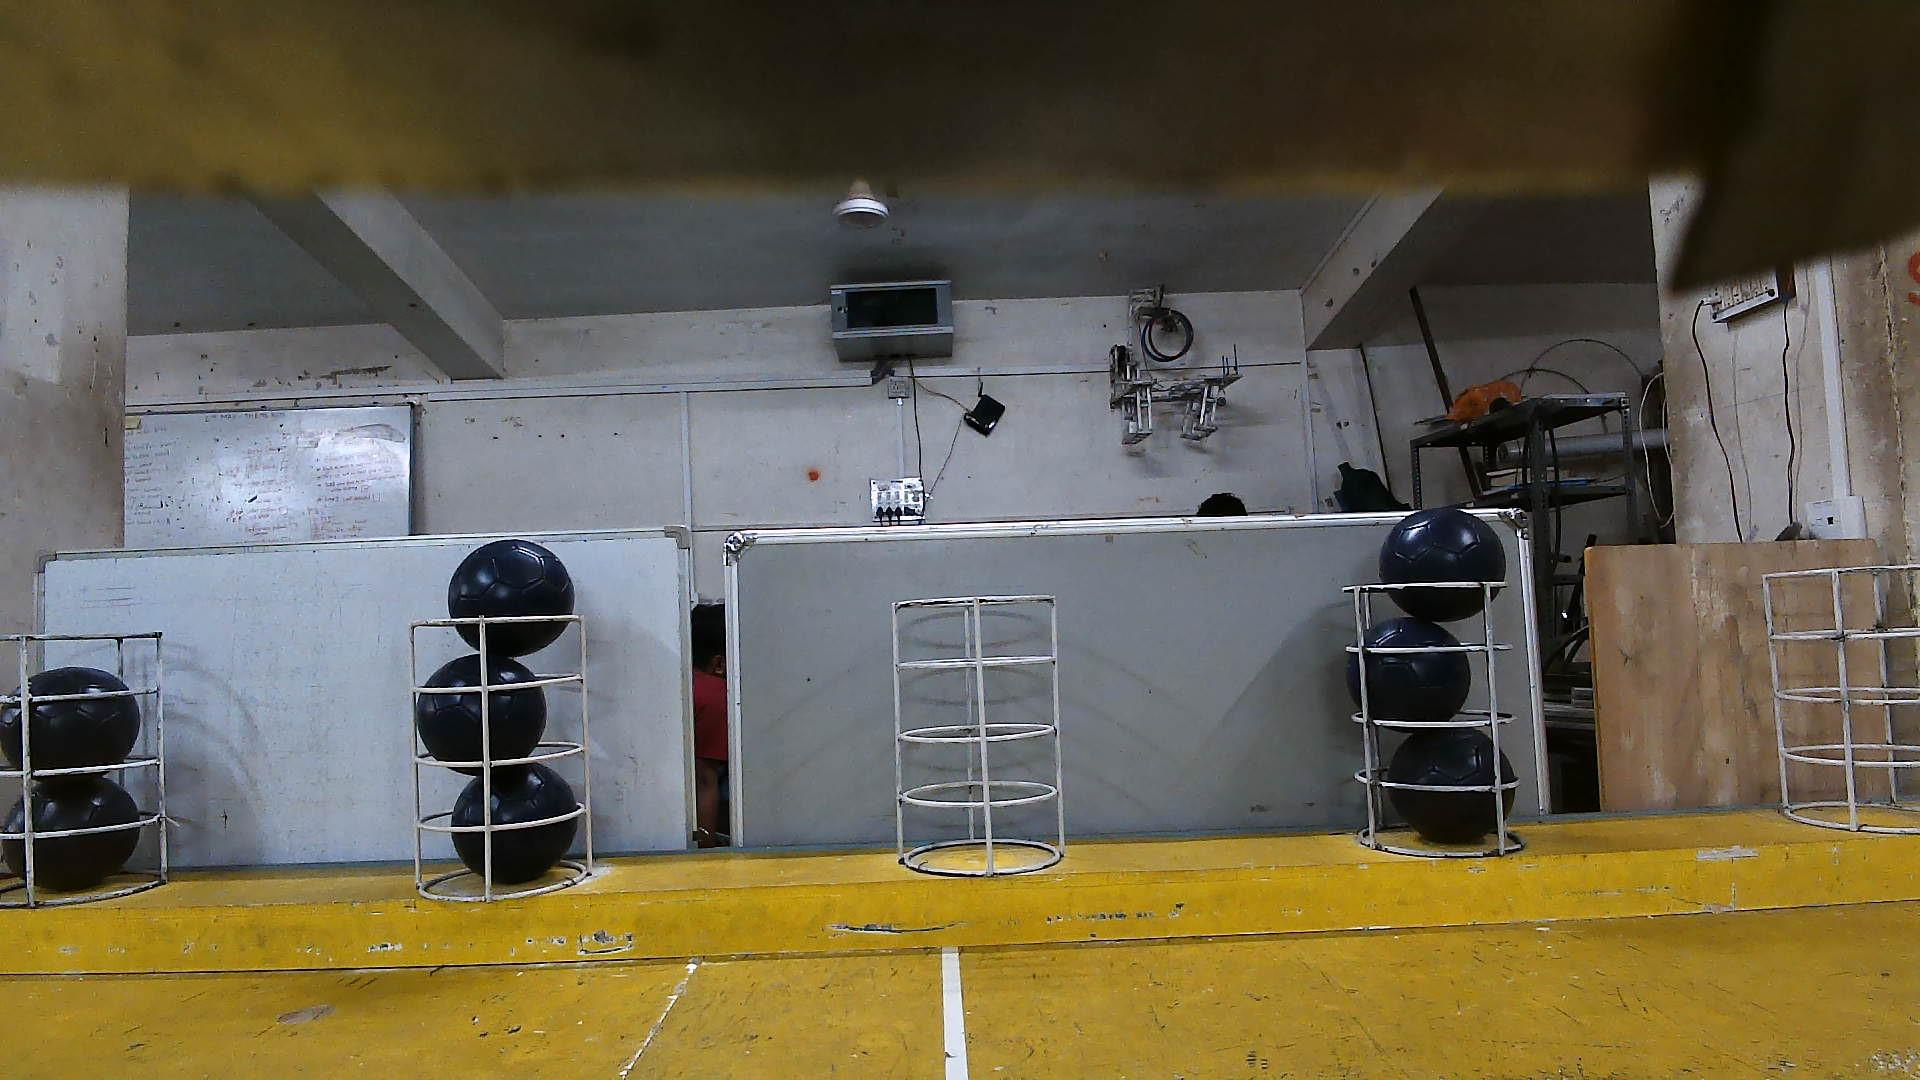dhoka: (9, 778, 133, 897), (451, 541, 571, 658), (7, 661, 128, 773), (1373, 731, 1494, 841), (1389, 516, 1501, 628), (1342, 618, 1465, 720), (464, 765, 582, 870), (425, 654, 535, 765)
